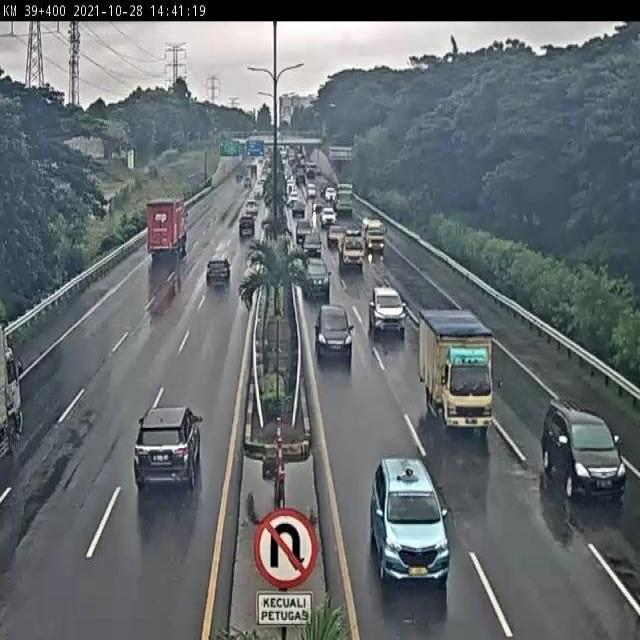car: (367, 459, 449, 585), (540, 401, 627, 499), (133, 407, 203, 489), (314, 303, 352, 361), (366, 285, 405, 336), (301, 256, 329, 300), (205, 257, 231, 287)
mid truck: (146, 200, 186, 257)
truck-m-: (418, 307, 494, 433)
